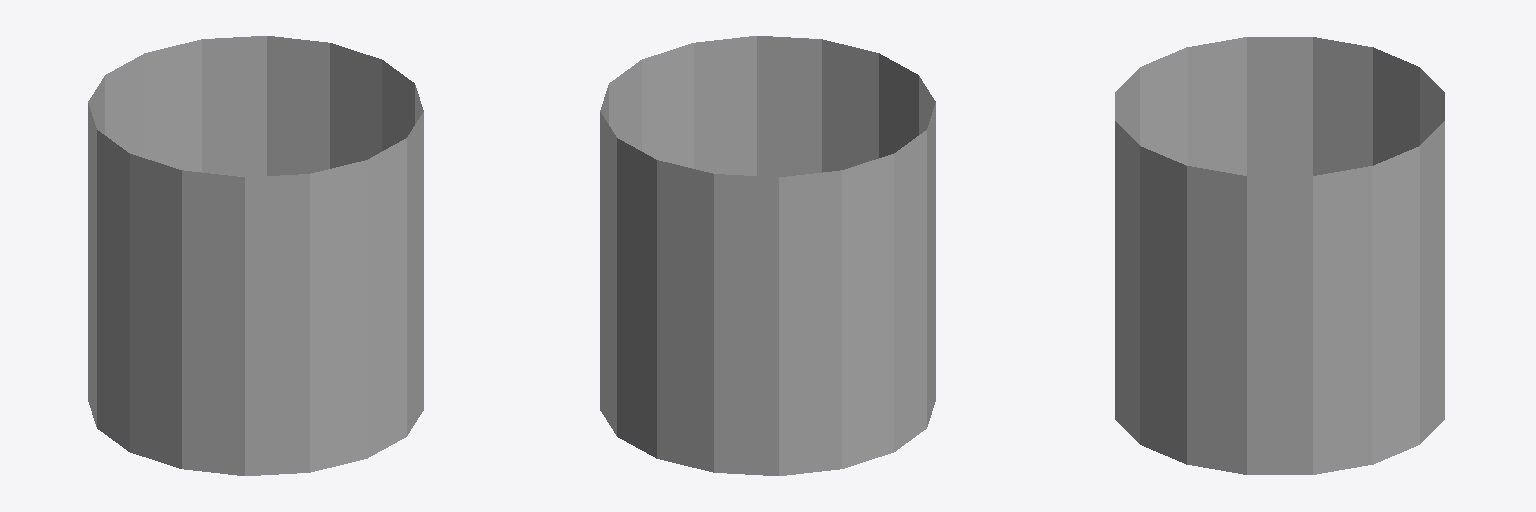
The model's file is lighthouse_part_lights.obj.
3 views of the same model, side by side, from view 1: azimuth 30°, elevation 25°; view 2: azimuth 150°, elevation 25°; view 3: azimuth 270°, elevation 25° (orthographic).
Visible parts, largest first — view 1: Light; view 2: Light; view 3: Light.
Boxes of the visible parts, x1=… form: Light: x1=88, y1=36, x2=423, y2=475; Light: x1=600, y1=36, x2=935, y2=475; Light: x1=1115, y1=37, x2=1444, y2=474.
Size of the model in its own units: 0.8571 by 0.8571 by 0.8571.